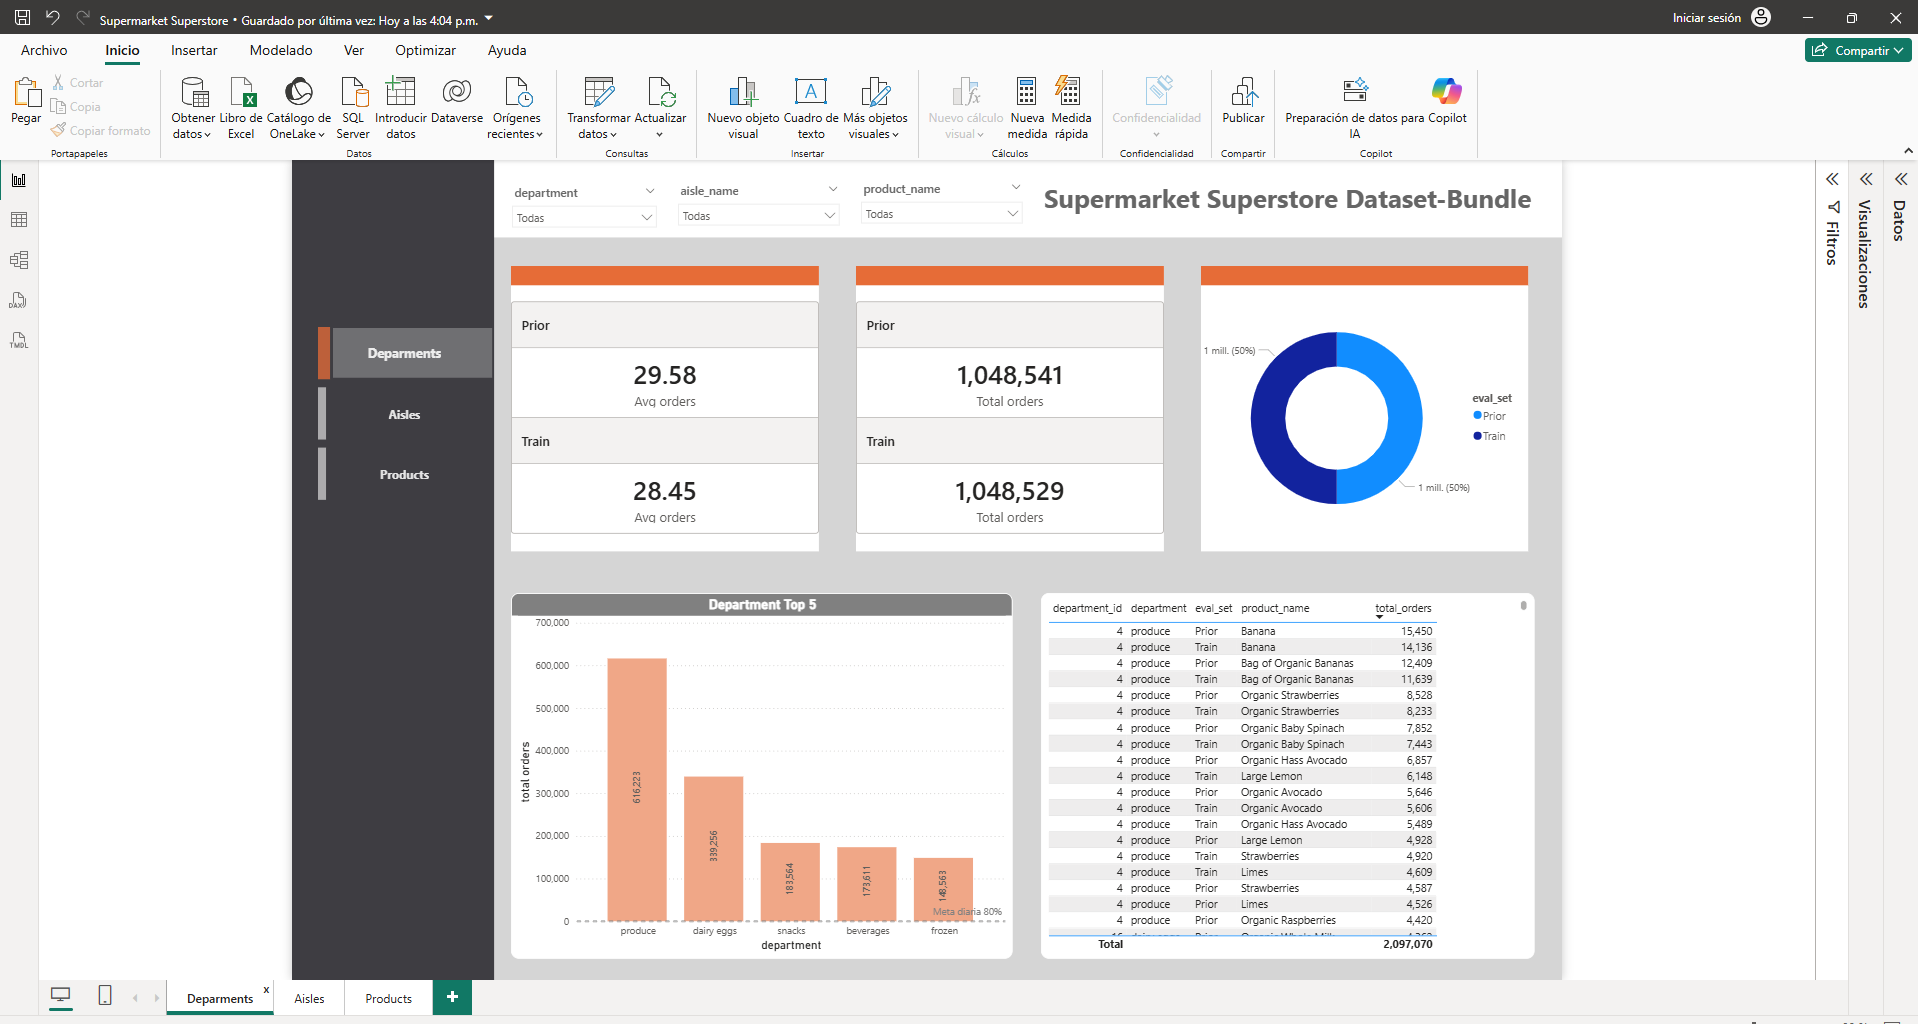

Layout of this report page (visuals, bound fields, positions):
{"tool":"powerbi","page":{"name":"Deparments","canvas":[1580,1020],"ordinal":0},"visuals":[{"type":"textbox","box":[896.9,19.9,682.9,54.7],"z":0},{"type":"tableEx","fields":{"Values":["tbl_kpis_eval_set.department_id","tbl_kpis_eval_set.department","tbl_kpis_eval_set.eval_set","tbl_kpis_eval_set.product_name","Sum(tbl_kpis_eval_set.total_orders)"]},"box":[931.7,538.6,614.5,455.3],"z":1000},{"type":"slicer","fields":{"Values":["tbl_kpis_eval_set.department"]},"box":[263.7,24.9,200.3,72.1],"z":2000},{"type":"slicer","fields":{"Values":["tbl_kpis_eval_set.aisle_name"]},"box":[470.2,22.4,221.4,72.1],"z":3000},{"type":"lineClusteredColumnComboChart","title":"Department Top 5","fields":{"Category":["tbl_kpis_eval_set.department"],"Y":["Sum(tbl_kpis_eval_set.total_orders)"]},"box":[272.4,538.6,624.4,455.3],"z":4000},{"type":"cardVisual","title":" ","fields":{"Data":["Avg(tbl_kpis_eval_set.total_orders)"],"Rows":["tbl_kpis_eval_set.eval_set"]},"box":[272.4,131.9,383.1,354.5],"z":5000},{"type":"donutChart","title":" ","fields":{"Y":["Sum(tbl_kpis_eval_set.total_orders)"],"Category":["tbl_kpis_eval_set.eval_set"]},"box":[1130.7,131.9,406.8,354.5],"z":6000},{"type":"cardVisual","title":" ","fields":{"Data":["Sum(tbl_kpis_eval_set.total_orders)"],"Rows":["tbl_kpis_eval_set.eval_set"]},"box":[701.6,131.9,383.1,354.5],"z":7000},{"type":"slicer","fields":{"Values":["tbl_kpis_eval_set.product_name"]},"box":[697.8,19.9,221.4,72.1],"z":8000},{"type":"pageNavigator","box":[32.8,207.1,216,216],"z":9000},{"type":"shape","box":[50.5,208.4,198.3,61.9],"z":9001}]}

Visuals, with their boxes on the page's 1580x1020 design canvas (x1, y1, x2, y2). These are canvas units, not pixel positions in the 1918x1024 screenshot, which may show the page scaled, cropped or inside an application window:
textbox: detection(897, 20, 1580, 75)
tableEx - tbl_kpis_eval_set.department_id x tbl_kpis_eval_set.department: detection(932, 539, 1546, 994)
slicer - tbl_kpis_eval_set.department: detection(264, 25, 464, 97)
slicer - tbl_kpis_eval_set.aisle_name: detection(470, 22, 692, 94)
"Department Top 5" lineClusteredColumnComboChart: detection(272, 539, 897, 994)
" " cardVisual: detection(272, 132, 656, 486)
" " donutChart: detection(1131, 132, 1538, 486)
" " cardVisual: detection(702, 132, 1085, 486)
slicer - tbl_kpis_eval_set.product_name: detection(698, 20, 919, 92)
pageNavigator: detection(33, 207, 249, 423)
shape: detection(50, 208, 249, 270)
